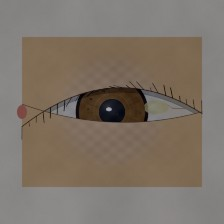pinguecula_lesion: (131, 87, 181, 127)
